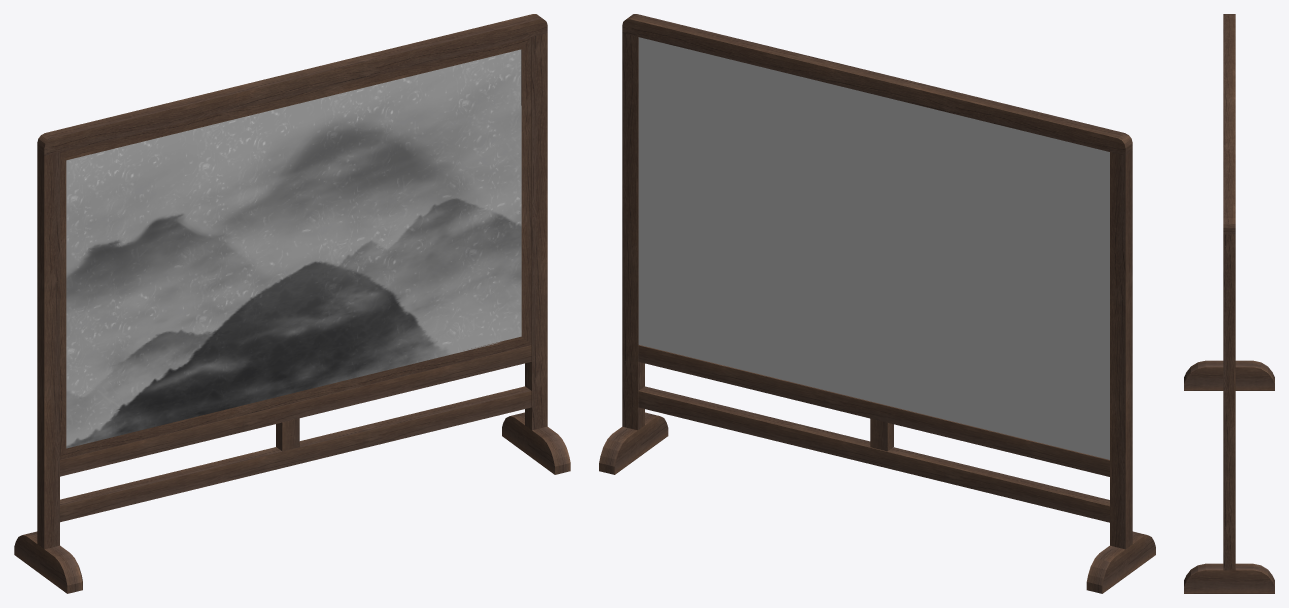
File: jov_partision01c.fbx
3 views of the same model, side by side, from view 1: azimuth 30°, elevation 25°; view 2: azimuth 150°, elevation 25°; view 3: azimuth 270°, elevation 25° (orthographic). The views are drawn at different scales.
Visible parts, largest first — view 1: jov_partision01c; view 2: jov_partision01c; view 3: jov_partision01c.
Part boxes in pixels (x1,y1,x2,y2): jov_partision01c: (14,14,570,593); jov_partision01c: (599,14,1155,593); jov_partision01c: (1184,14,1274,593).
Size of the model in its own units: 140 by 116 by 25.71.
